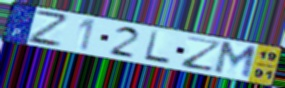1: (76, 17, 97, 52)
2: (105, 26, 143, 60)
L: (142, 29, 172, 66)
M: (211, 40, 260, 81)
Z: (26, 8, 69, 49), (181, 35, 225, 74)
